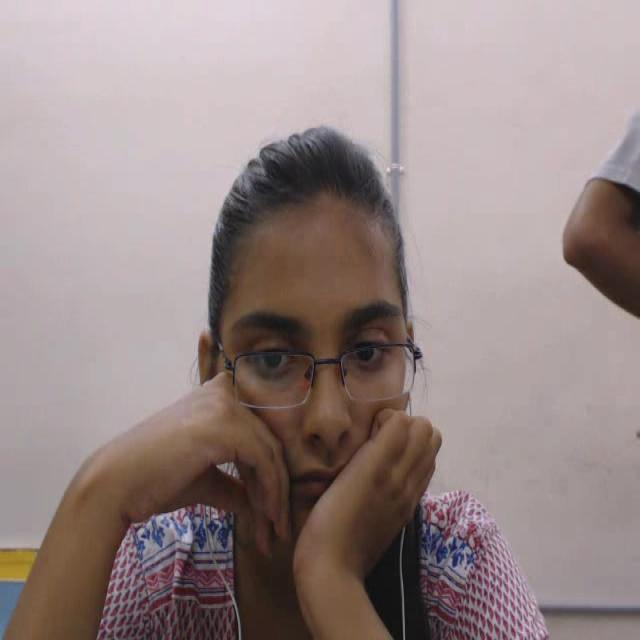Bored: (195, 131, 462, 545)
